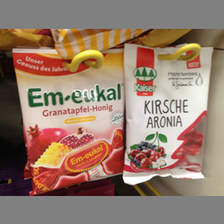candy: (10, 47, 123, 189), (124, 40, 211, 185)
